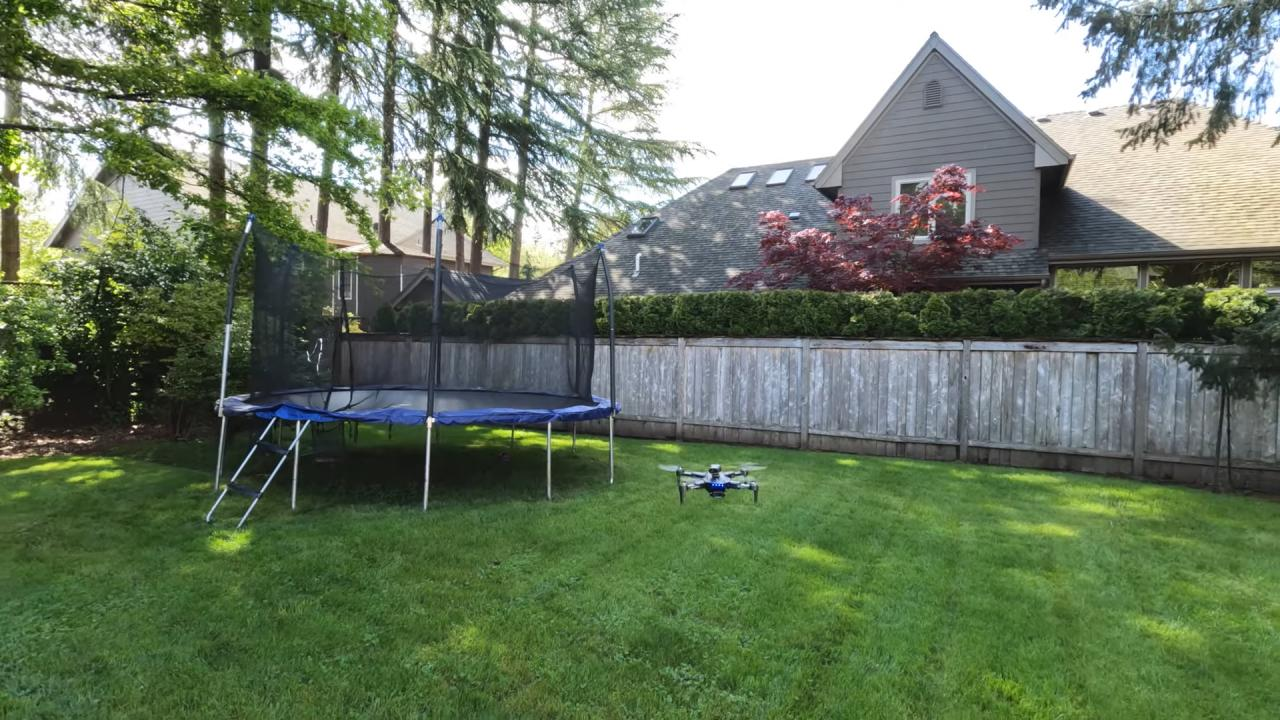Drone: (650, 447, 772, 514)
